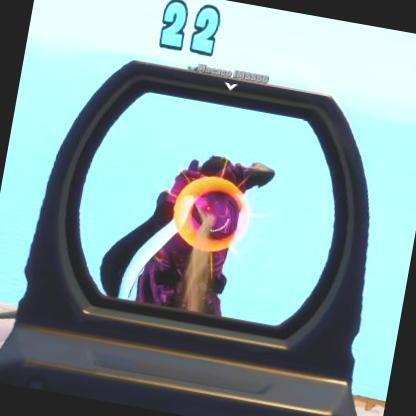person: (150, 138, 261, 338)
